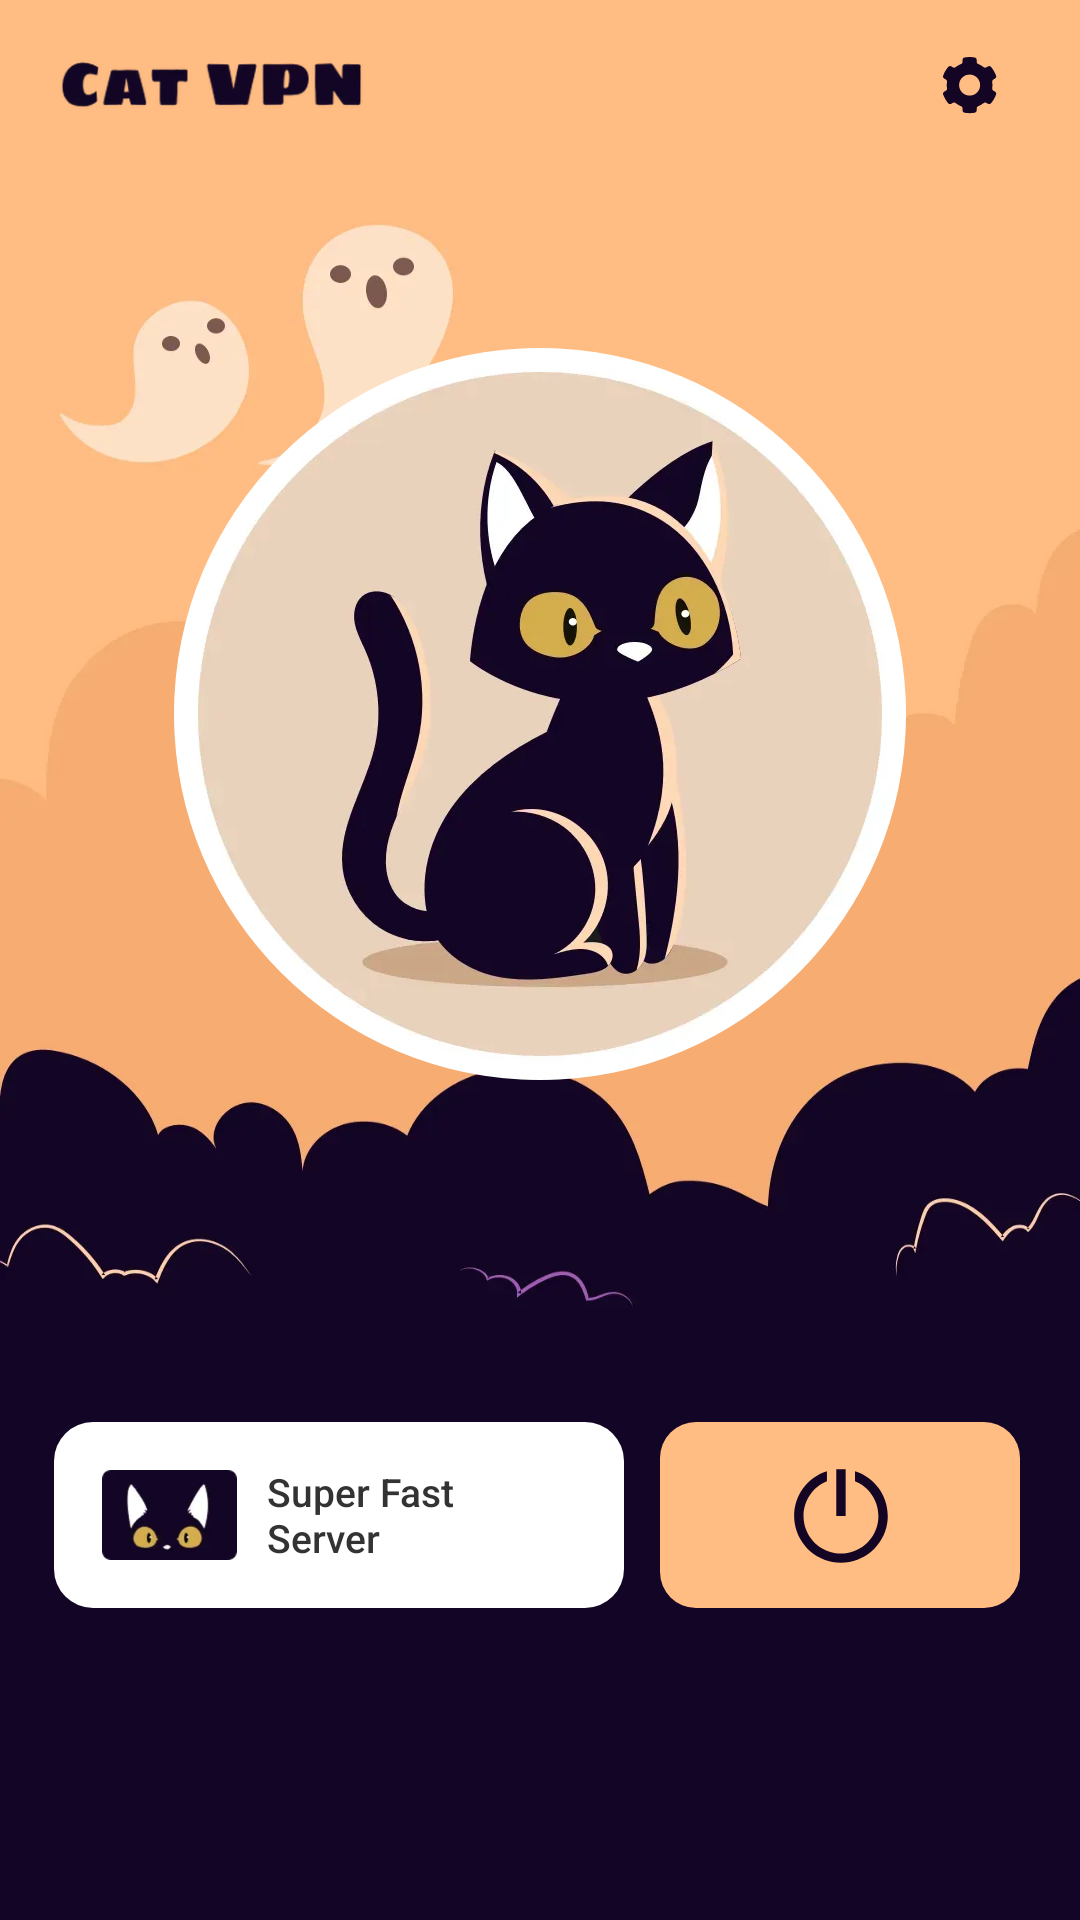

Where icons sit on this 1080 × 1920 app screen, as [x1,y1,x2,y2]:
set: [943,57,997,114]
